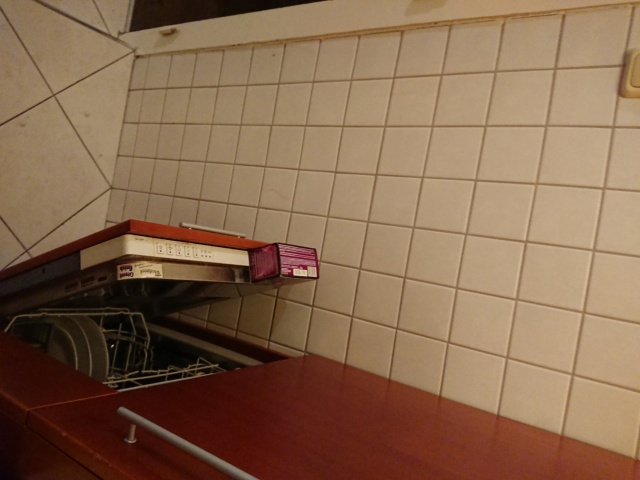Franck Black Currant Tea 60g: (246, 241, 322, 286)
